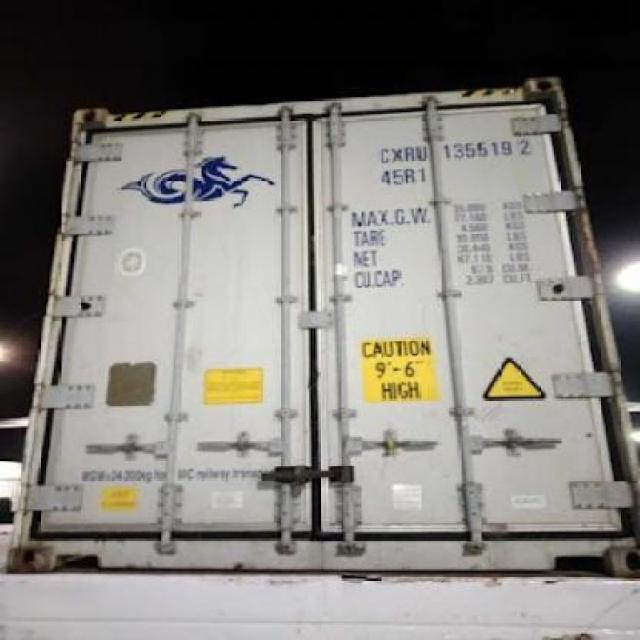ISO: (380, 165, 430, 186)
container_number: (373, 136, 534, 162)
